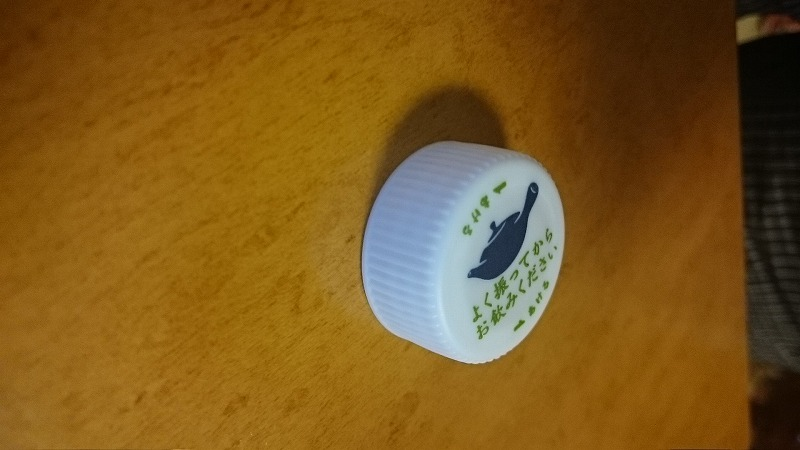A: (346, 130, 582, 369)
